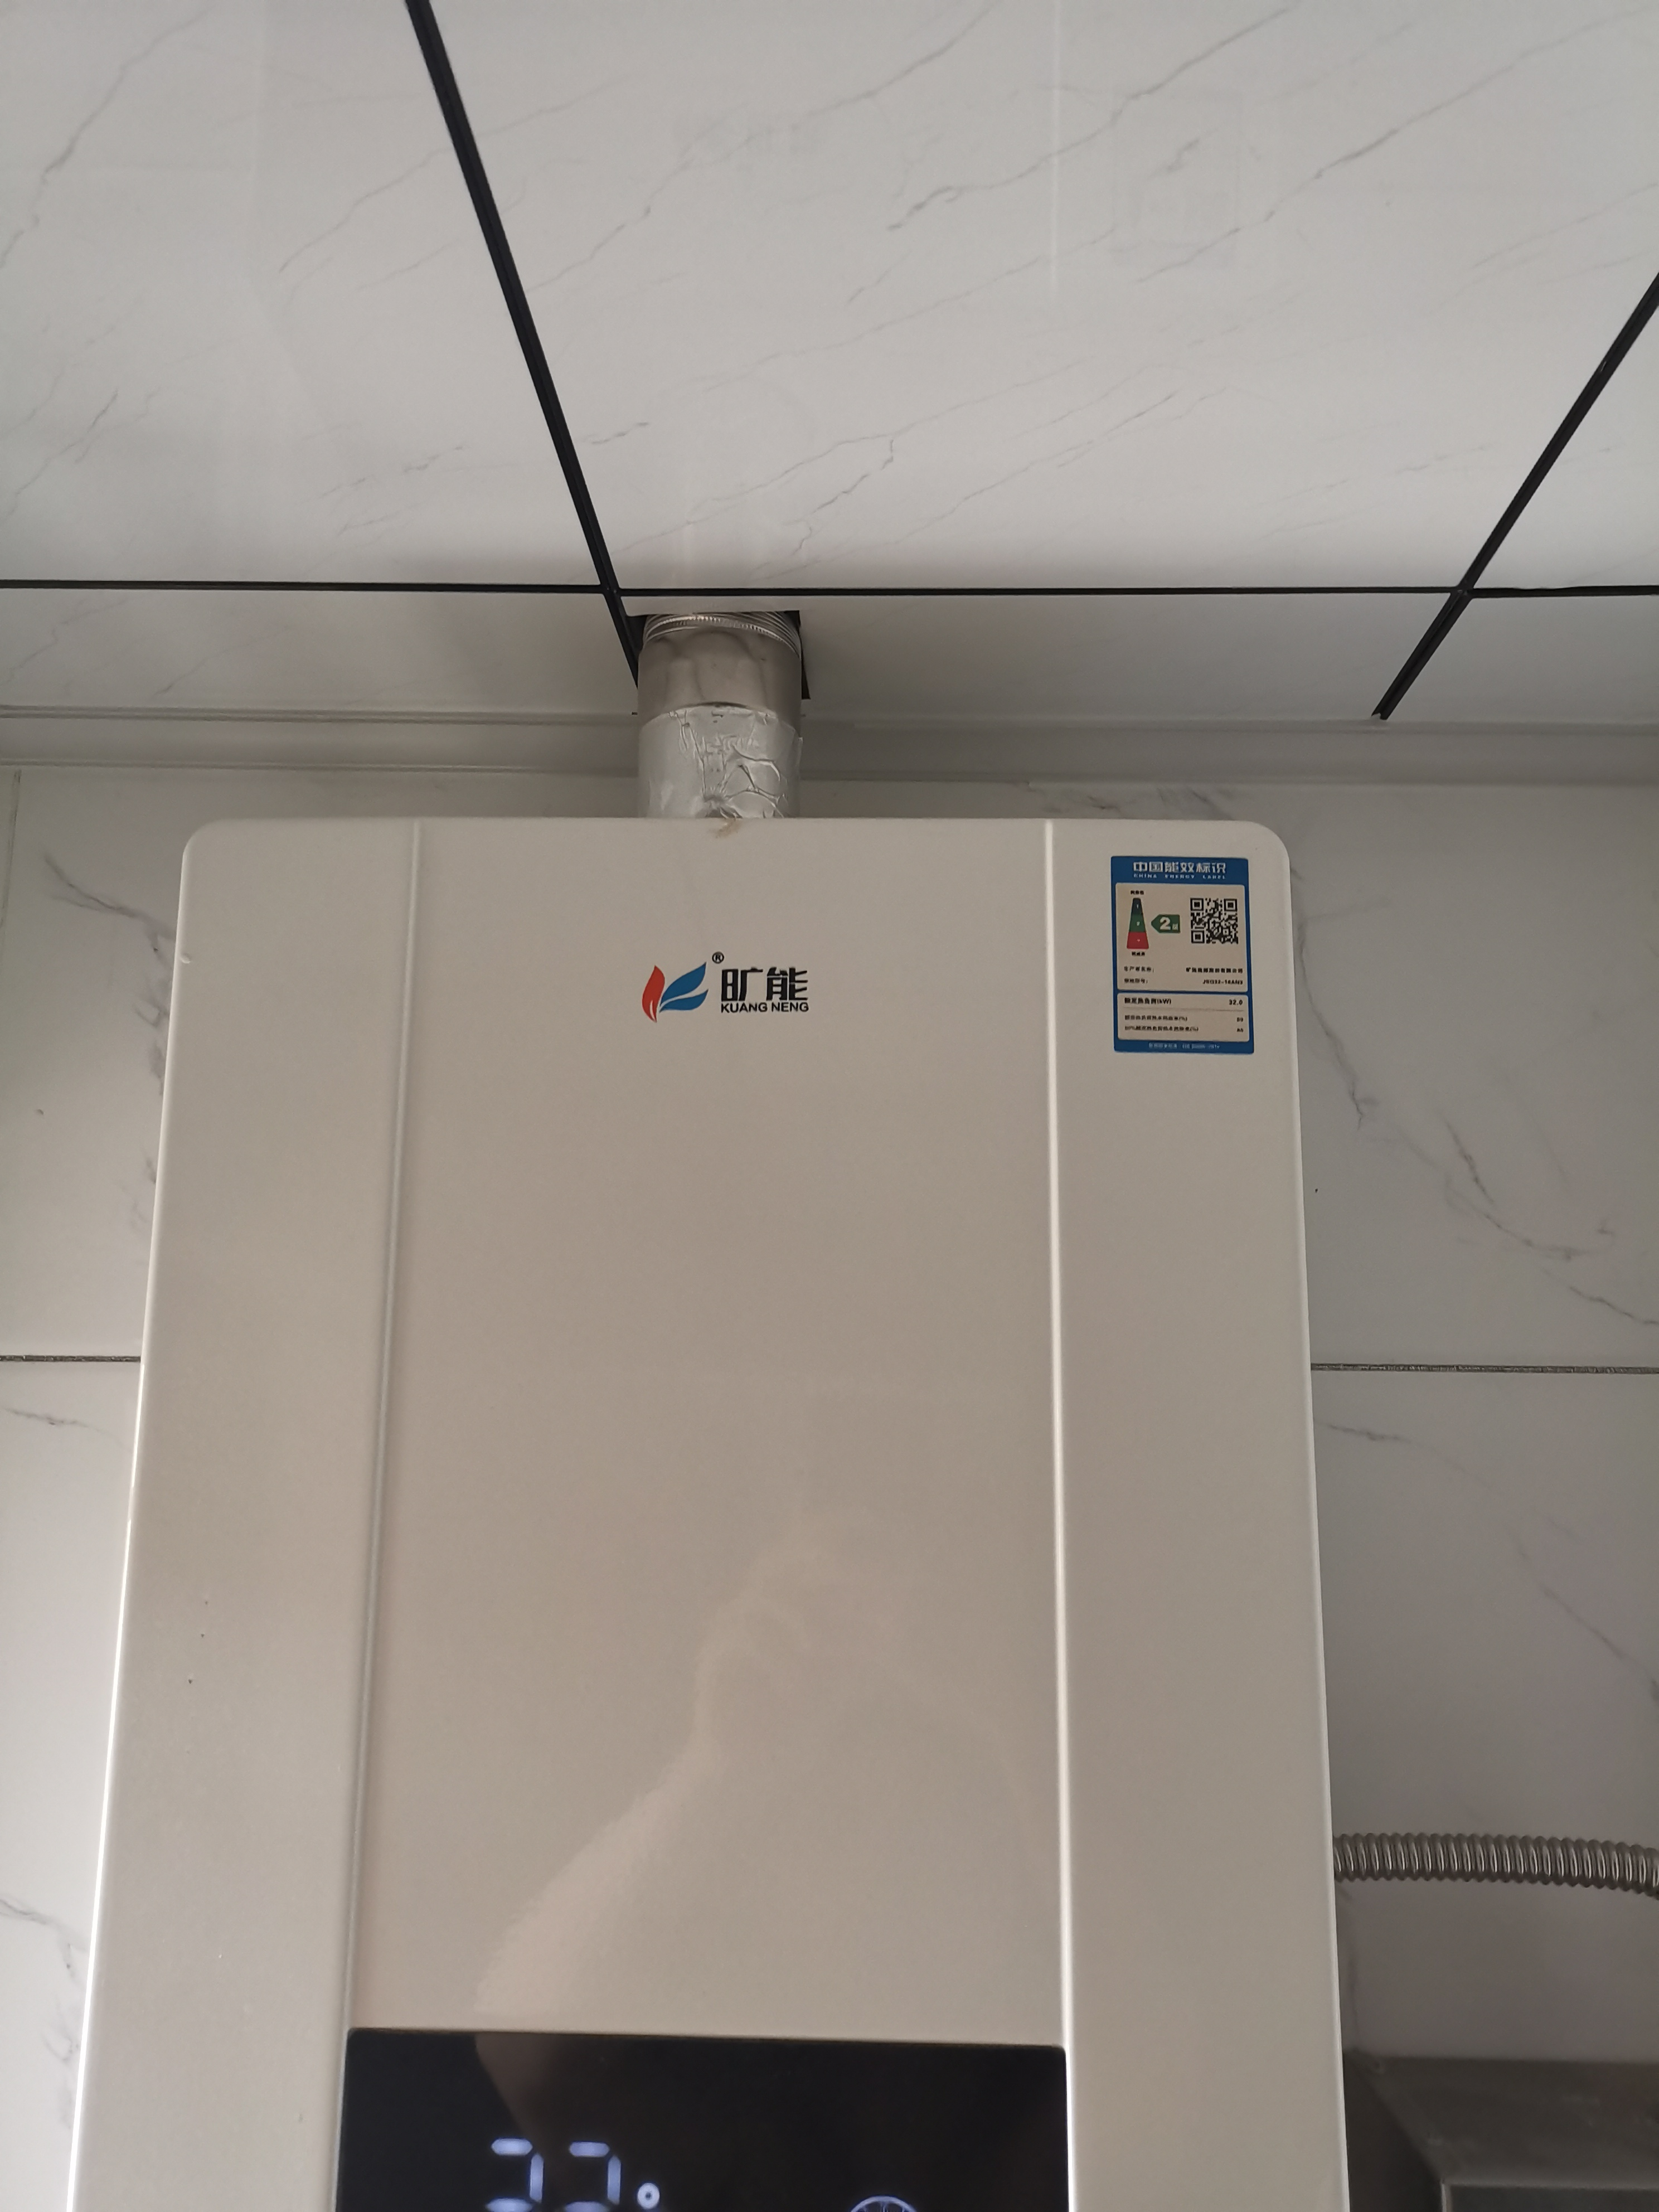loudou: (619, 937, 824, 1043)
